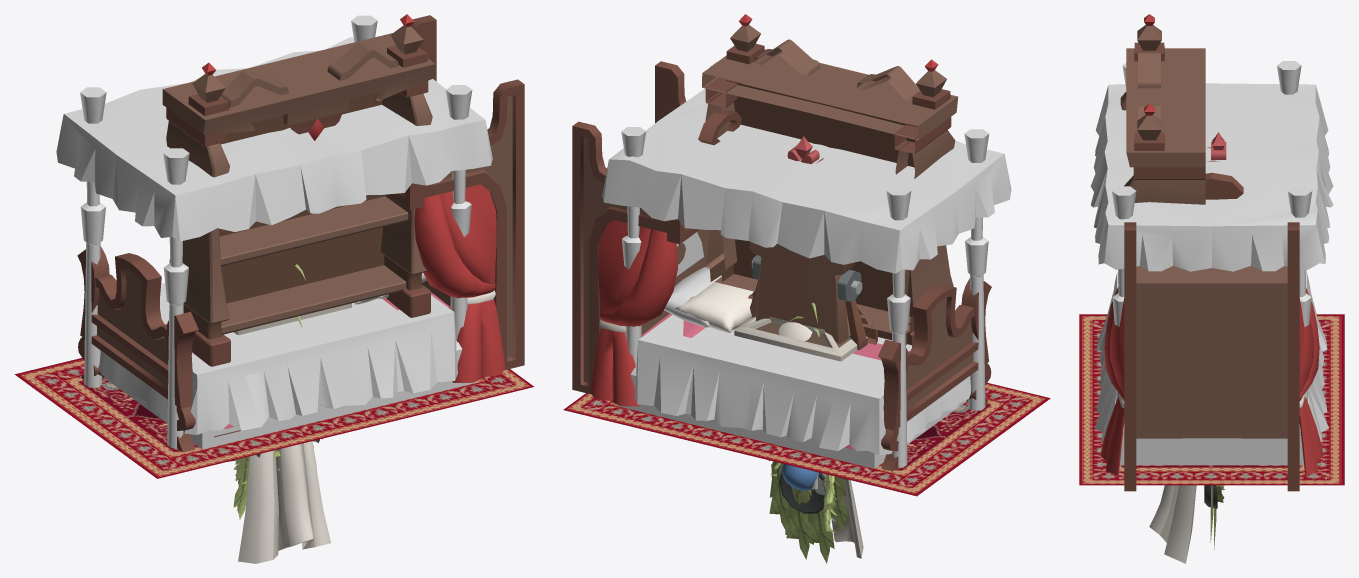
The model's file is ornaments.fbx.
The picture shows the model from 3 angles, left to right: view 1: azimuth 30°, elevation 25°; view 2: azimuth 150°, elevation 25°; view 3: azimuth 270°, elevation 25°; orthographic projection. The views are drawn at different scales.
Visible parts, largest first — view 1: bed_2, cupboard_1, bed_3, carpet_01, pendant_5, plant_4; view 2: bed_2, bed_3, cupboard_1, carpet_01, mirror, plant_4, chest_3, pendant_5, pan_1, pendant_6; view 3: bed_2, bed_3, cupboard_1, carpet_01, pendant_5, mirror.
Part boxes in pixels (x1,y1,x2,y2): bed_2: (56,15,492,449); cupboard_1: (162,14,438,437); bed_3: (77,15,524,452); carpet_01: (15,358,533,478); pendant_5: (238,441,330,563); plant_4: (233,440,315,519); bed_2: (602,62,1011,468); bed_3: (572,61,991,471); cupboard_1: (702,14,958,347); carpet_01: (563,383,1050,496); mirror: (750,136,866,349); plant_4: (768,460,848,563); chest_3: (734,316,867,361); pendant_5: (785,479,863,558); pan_1: (779,472,825,513); pendant_6: (781,464,818,490); bed_2: (1090,61,1333,465); bed_3: (1100,172,1323,491); cupboard_1: (1120,14,1205,204); carpet_01: (1079,314,1344,485); pendant_5: (1149,485,1196,563); mirror: (1207,132,1226,161).
Bounding box in the file's own units: 267 × 347 × 169.
